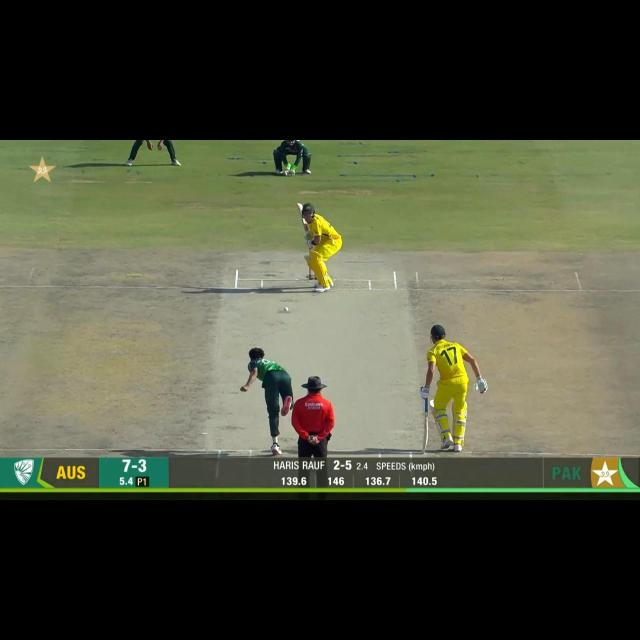bat: (295, 202, 311, 231), (420, 414, 431, 454)
toe: (419, 443, 430, 454), (295, 202, 304, 210)
